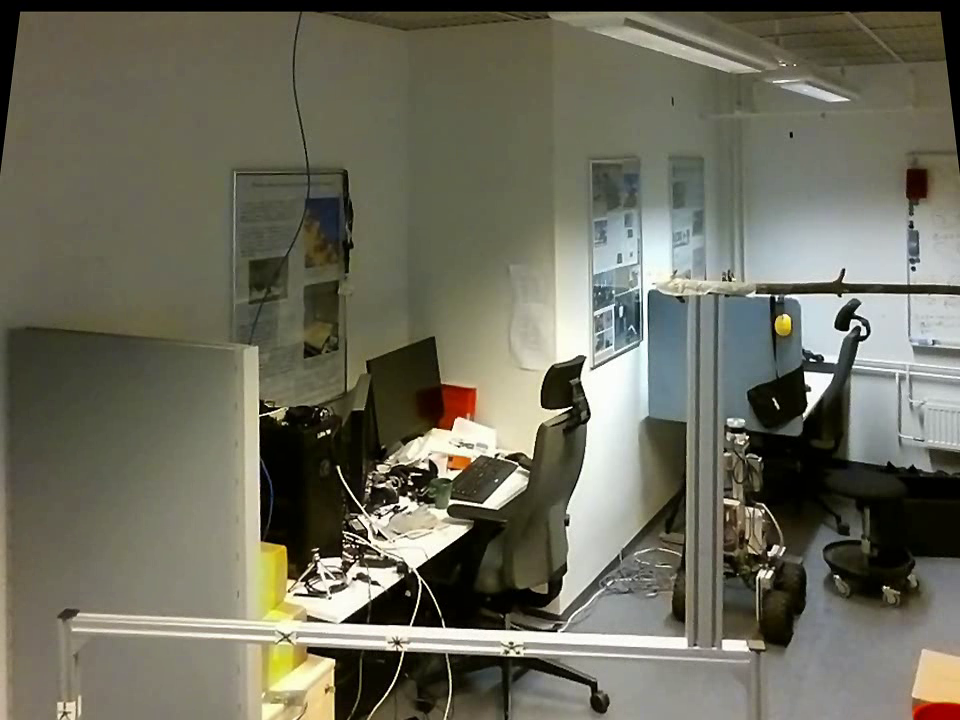aluminum_frame: (78, 605, 750, 665), (680, 295, 727, 643), (43, 604, 92, 716), (742, 631, 776, 717), (901, 146, 915, 342), (906, 332, 959, 354), (903, 146, 957, 156)
branch: (762, 261, 953, 305)
